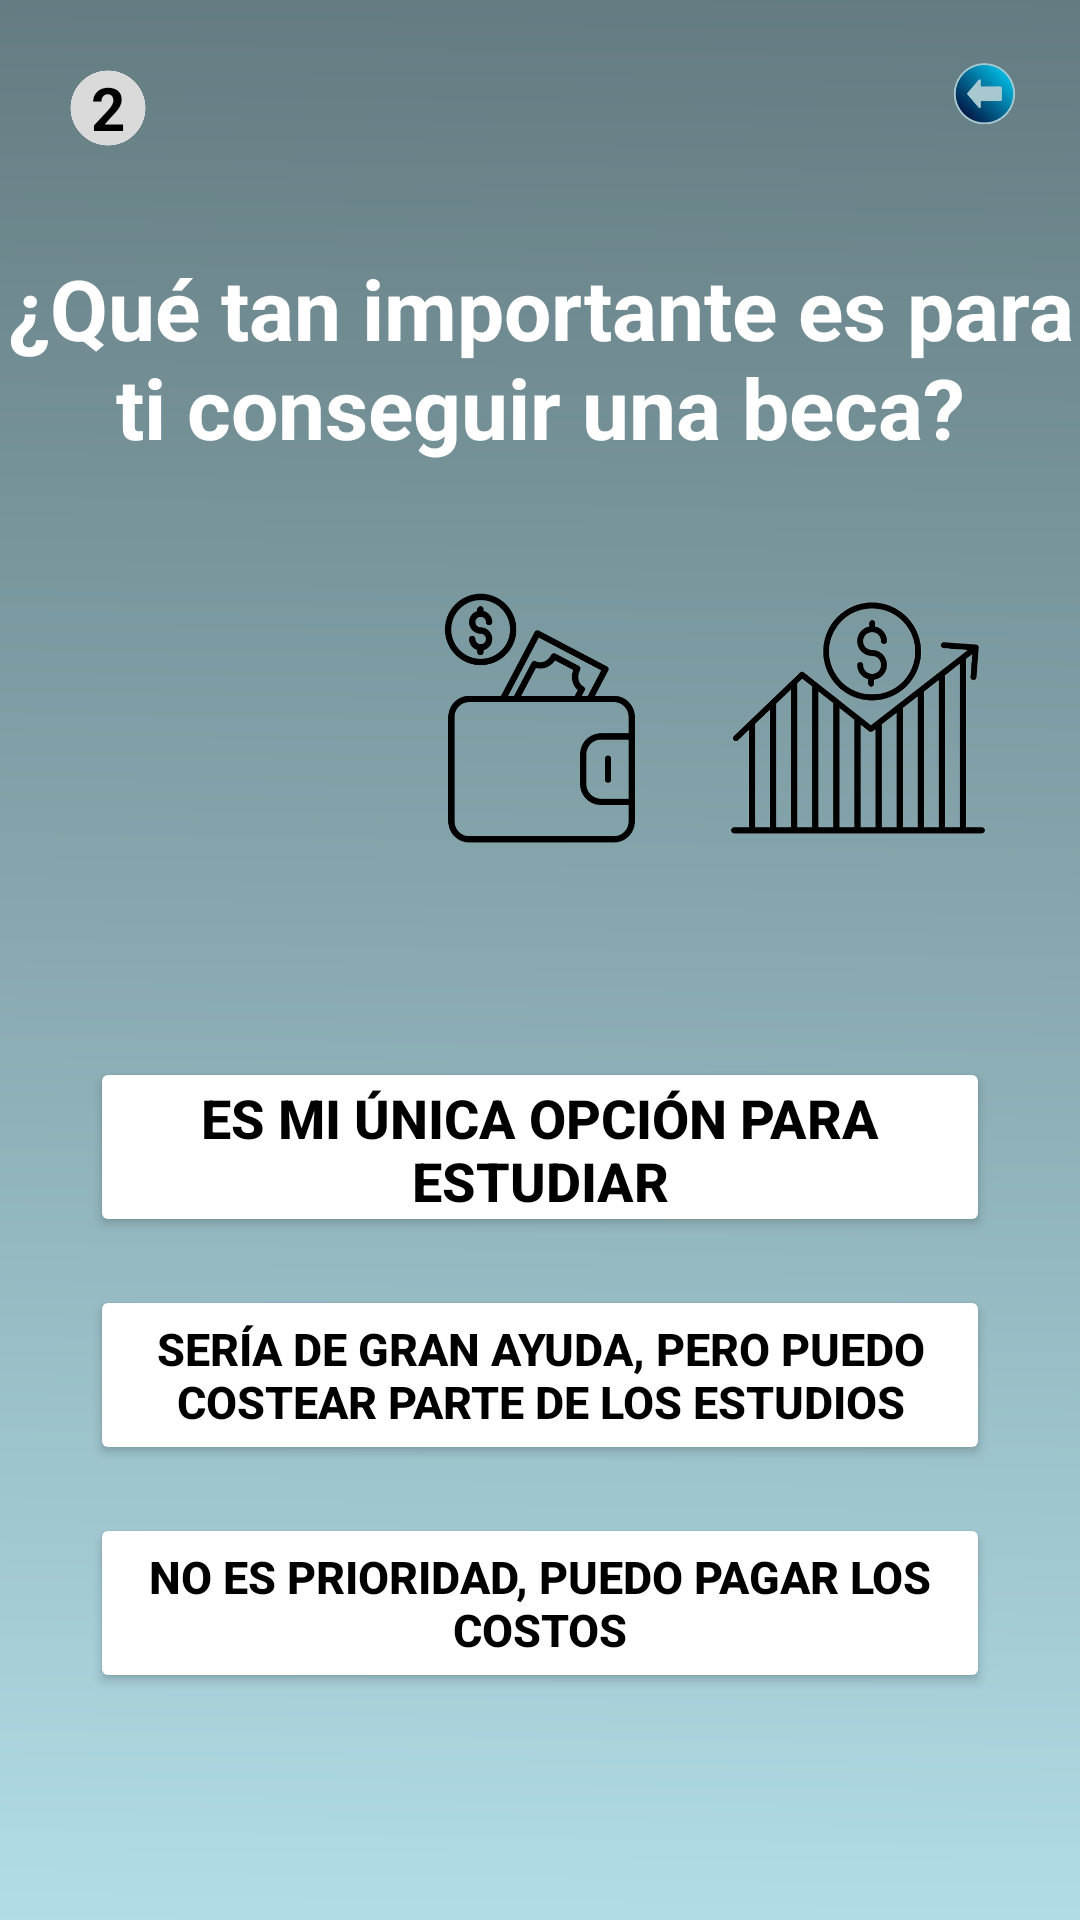

Point at icon controls on the screen. Image size 1080 x 1920, points as point (x, y).
cartera: point (539, 718)
crecimiento: point (858, 718)
retroceso: point (984, 93)
